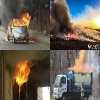fire: (5, 11, 34, 43), (68, 50, 92, 72), (15, 61, 31, 90), (50, 33, 85, 42)
